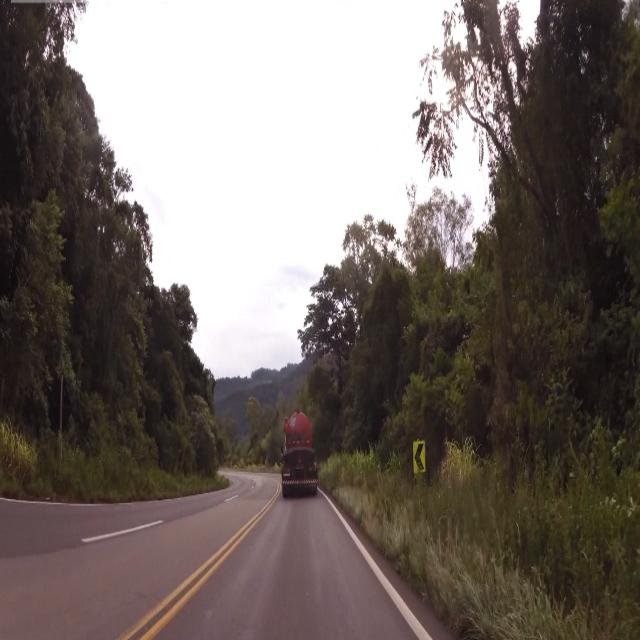Del: (409, 432, 429, 484)
